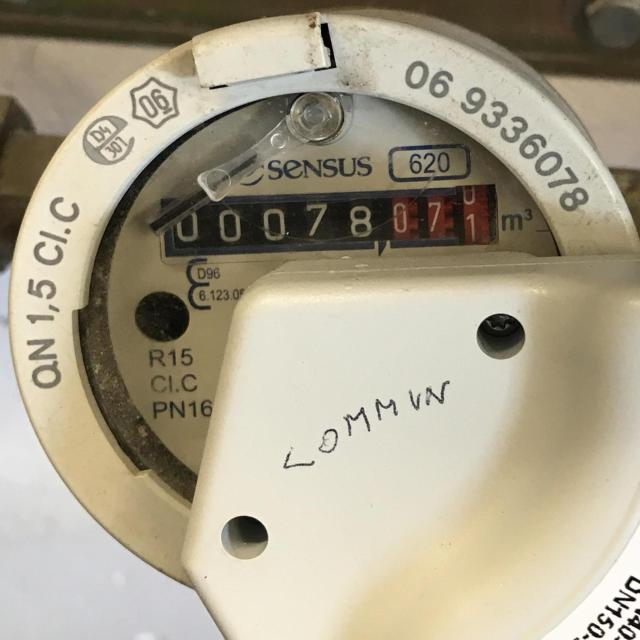gaz_meter: (9, 16, 640, 592)
indication: (163, 183, 499, 264)
